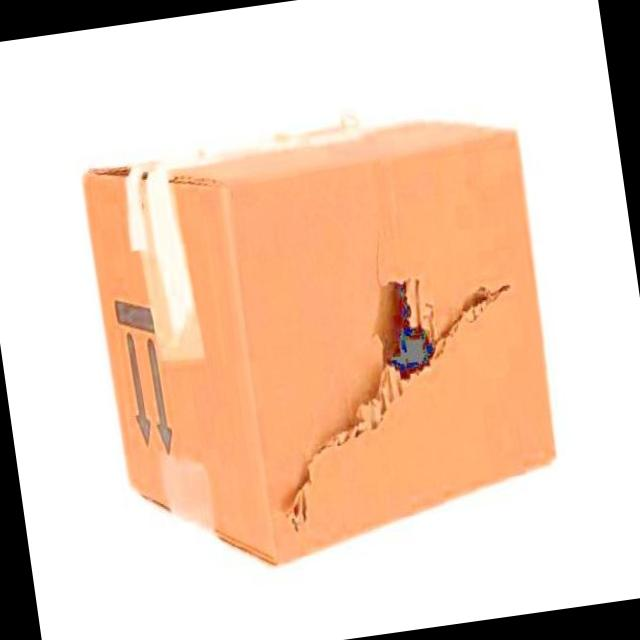box: (82, 117, 559, 567)
tear: (283, 231, 515, 536)
